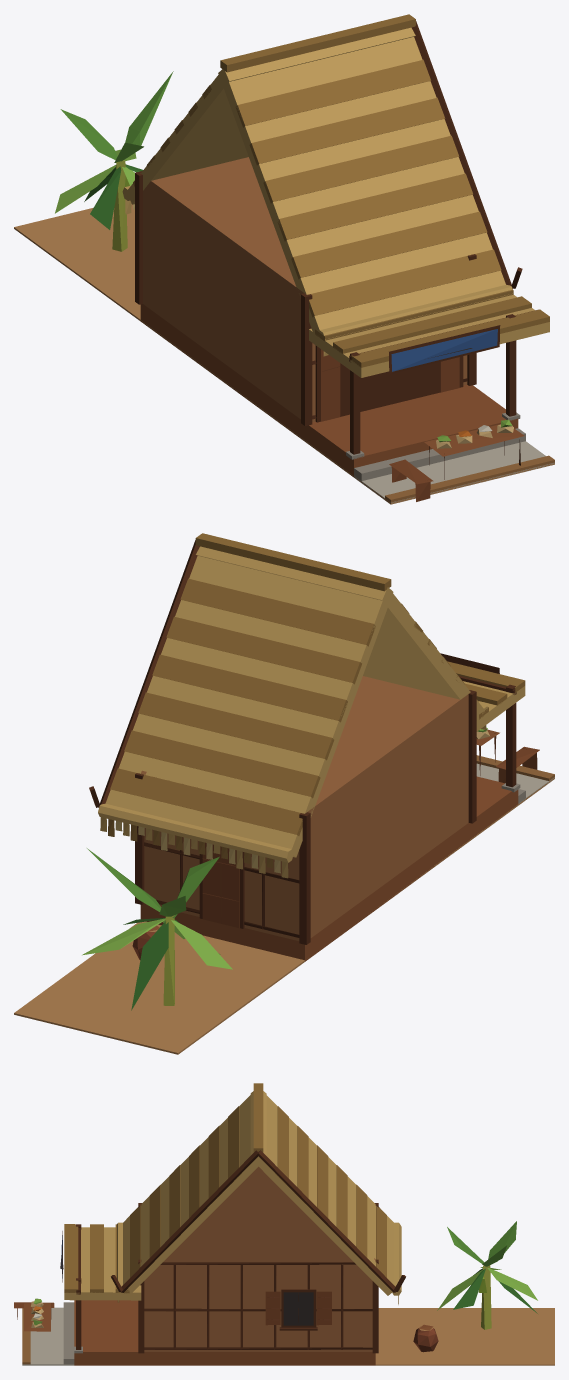
The model's file is bay1_right.glb.
3 views of the same model, one above another, from view 1: azimuth 30°, elevation 25°; view 2: azimuth 150°, elevation 25°; view 3: azimuth 270°, elevation 25° (orthographic). The views are drawn at different scales.
Parts seen in each view (by area): view 1: body; view 2: body; view 3: body, windows.
Part boxes in pixels (box(x1,y1,x2,y2)): body: box(14, 14, 554, 504); body: box(14, 533, 554, 1054); body: box(14, 1083, 554, 1365); windows: box(283, 1292, 313, 1325).
Bounding box in the file's own units: 4.94 × 7.44 × 16.15.
